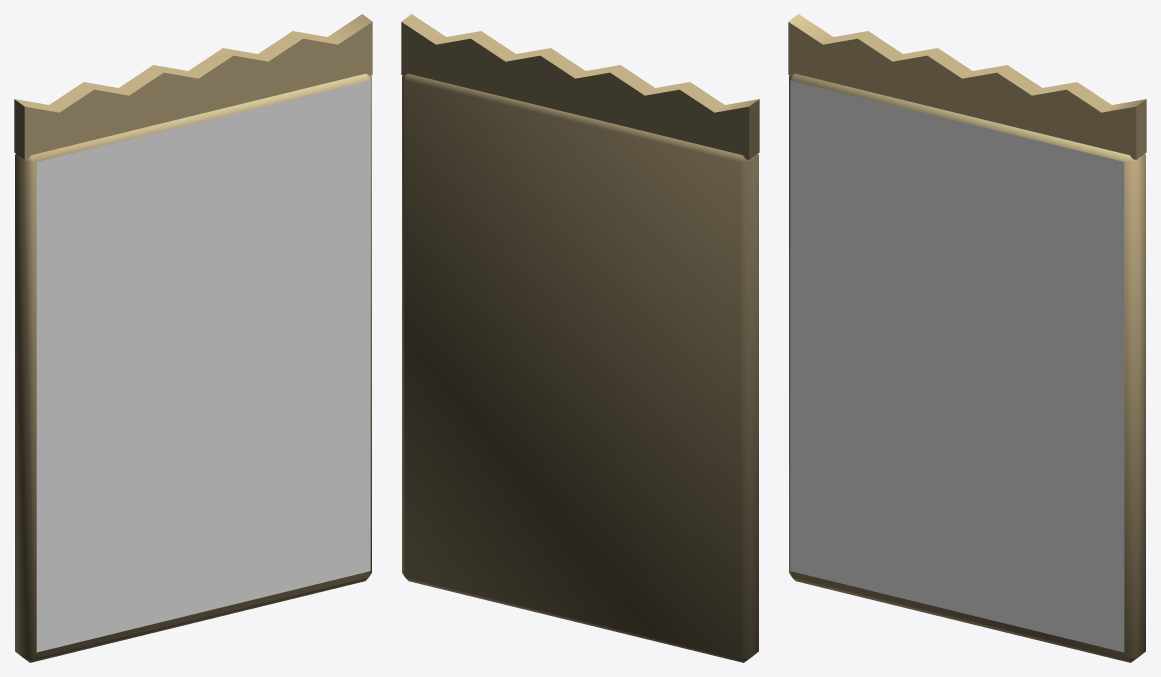
Rendered from seed_packet_textured.fbx.
3 views of the same model, side by side, from view 1: azimuth 30°, elevation 25°; view 2: azimuth 150°, elevation 25°; view 3: azimuth 330°, elevation 25° (orthographic).
Visible parts, largest first — view 1: Printed seed label, Folded paper packet; view 2: Folded paper packet; view 3: Printed seed label, Folded paper packet.
Boxes of the visible parts, <box> form: Printed seed label: <box>36,80,370,652</box>; Folded paper packet: <box>14,14,372,662</box>; Folded paper packet: <box>401,14,759,662</box>; Printed seed label: <box>790,80,1124,652</box>; Folded paper packet: <box>788,14,1146,662</box>.
Bounding box in the file's own units: 0.075 × 0.115 × 0.0068.
